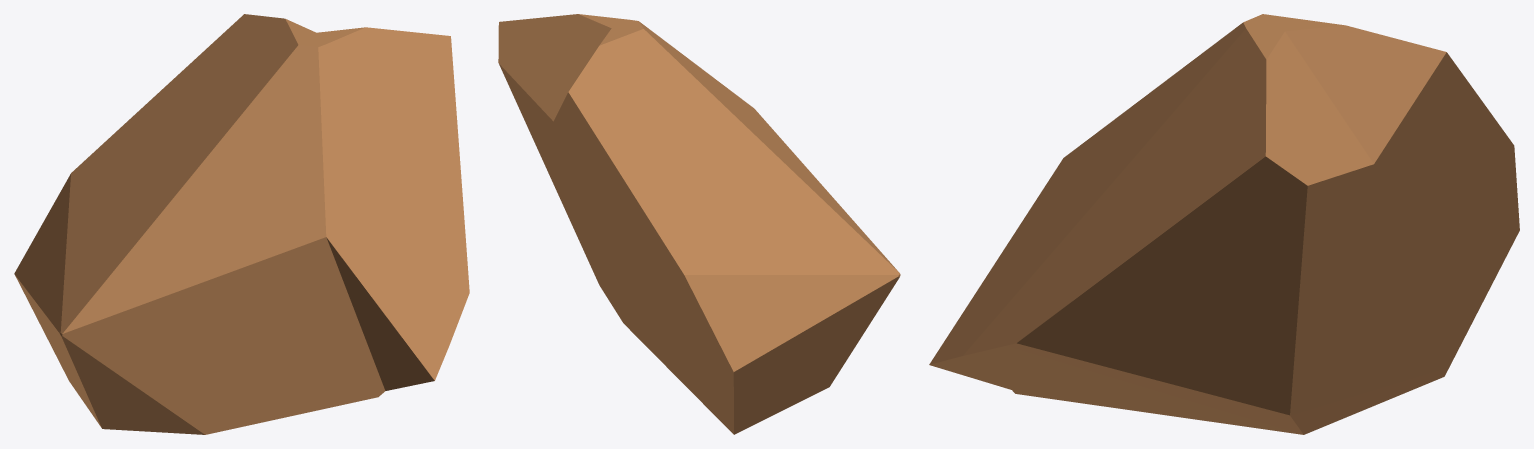
File: asteroid_5.glb
The picture shows the model from 3 angles, left to right: view 1: azimuth 30°, elevation 25°; view 2: azimuth 150°, elevation 25°; view 3: azimuth 270°, elevation 25°; orthographic projection. The views are drawn at different scales.
Parts seen in each view (by area): view 1: Asteriod_cell_5; view 2: Asteriod_cell_5; view 3: Asteriod_cell_5.
Part boxes in pixels (<box>): Asteriod_cell_5: <box>14,14,469,434</box>; Asteriod_cell_5: <box>498,14,900,434</box>; Asteriod_cell_5: <box>929,14,1519,434</box>.
Bounding box in the file's own units: 1.51 × 1.22 × 1.39.
